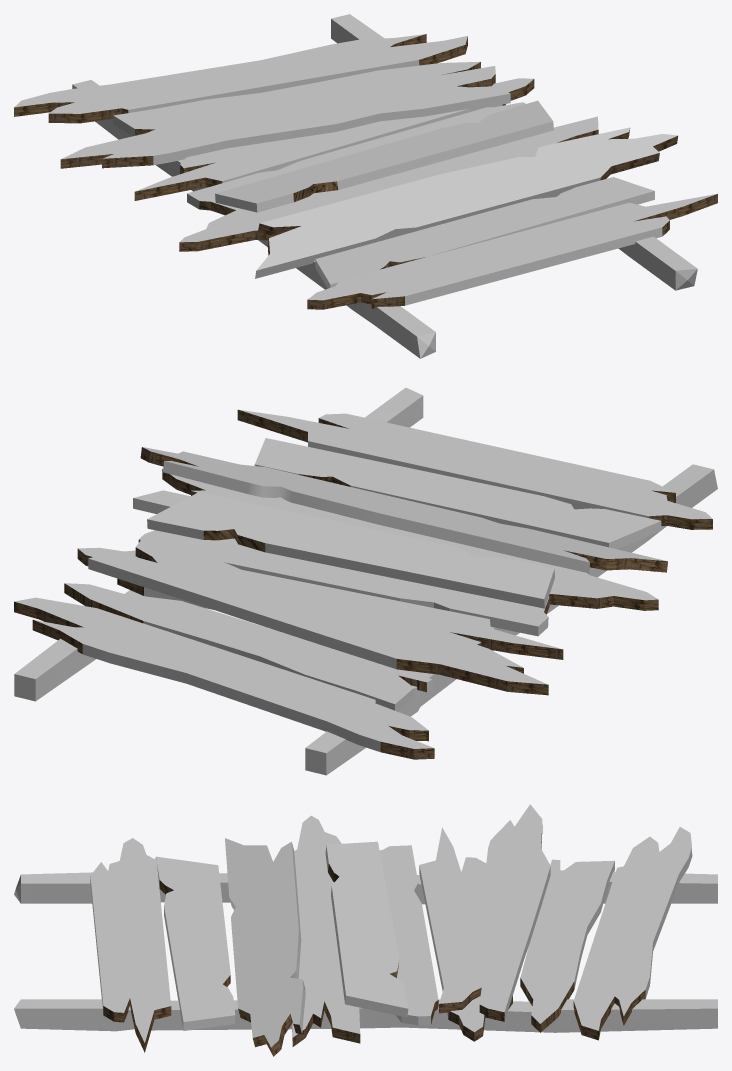
The model's file is lower_city_wood_roof_01.fbx.
3 views of the same model, one above another, from view 1: azimuth 30°, elevation 25°; view 2: azimuth 150°, elevation 25°; view 3: azimuth 270°, elevation 25° (orthographic). The views are drawn at different scales.
Parts seen in each view (by area): view 1: lower_city_wood_roof_01; view 2: lower_city_wood_roof_01; view 3: lower_city_wood_roof_01.
Part boxes in pixels (x1,y1,x2,y2): lower_city_wood_roof_01: [14, 14, 717, 358]; lower_city_wood_roof_01: [14, 387, 717, 775]; lower_city_wood_roof_01: [14, 804, 717, 1056].
Size of the model in its own units: 4.2 by 0.3686 by 5.17.
